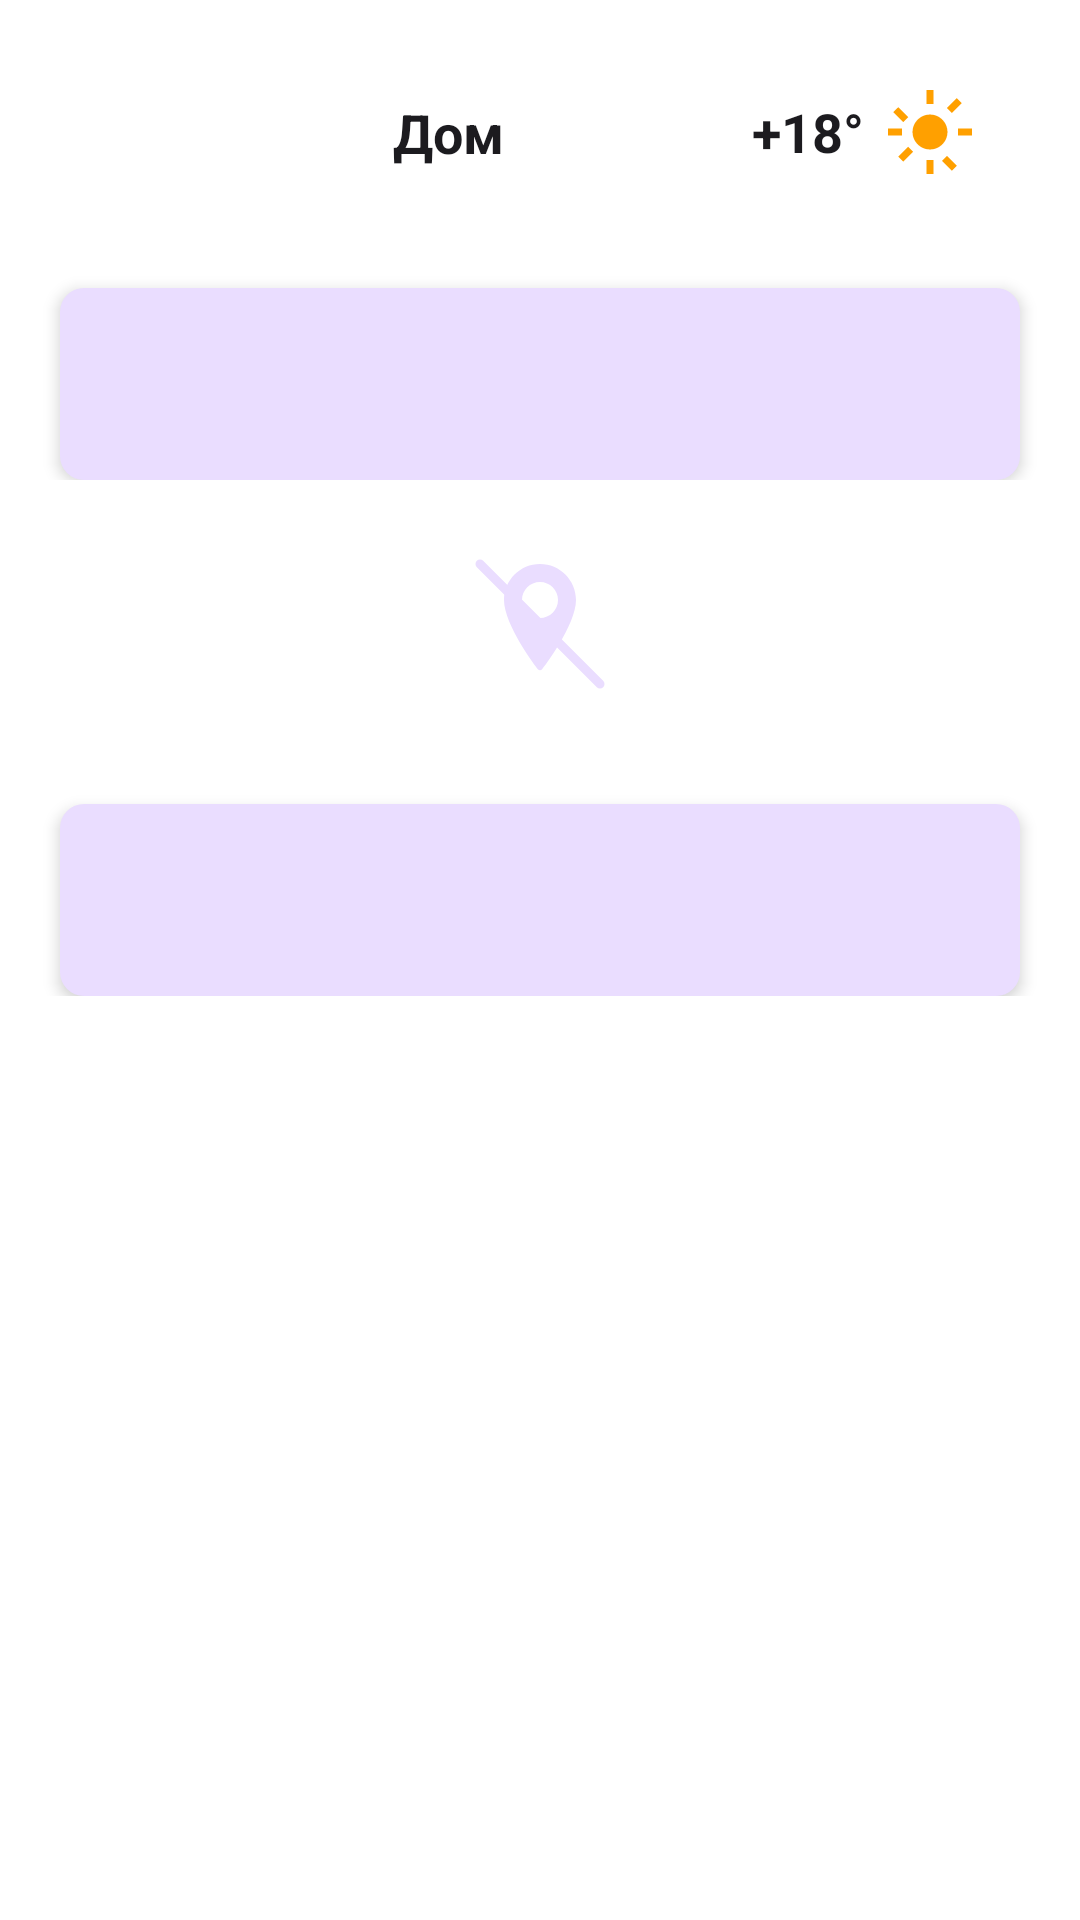

Icon click points for this 1080 × 1920 phone screenshot, format [x,y]:
location off: [540,624]
sunny: [930,132]
